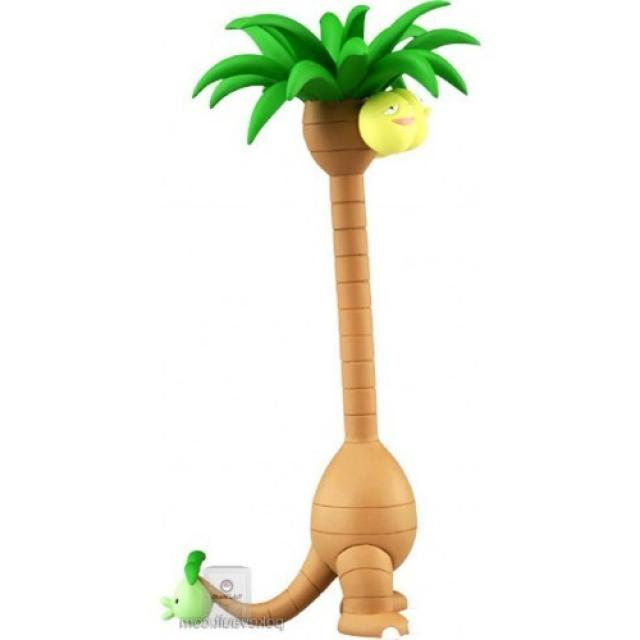Exeggutor: (244, 0, 442, 639)
